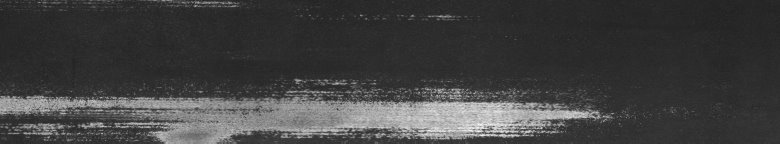kb: (4, 4, 496, 136)
